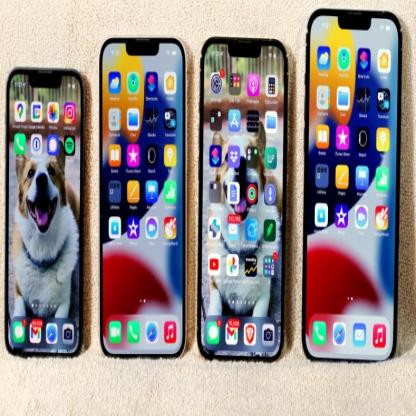SMARTPHONE: (310, 8, 401, 372), (98, 33, 191, 378), (202, 37, 286, 399), (6, 66, 85, 364)
